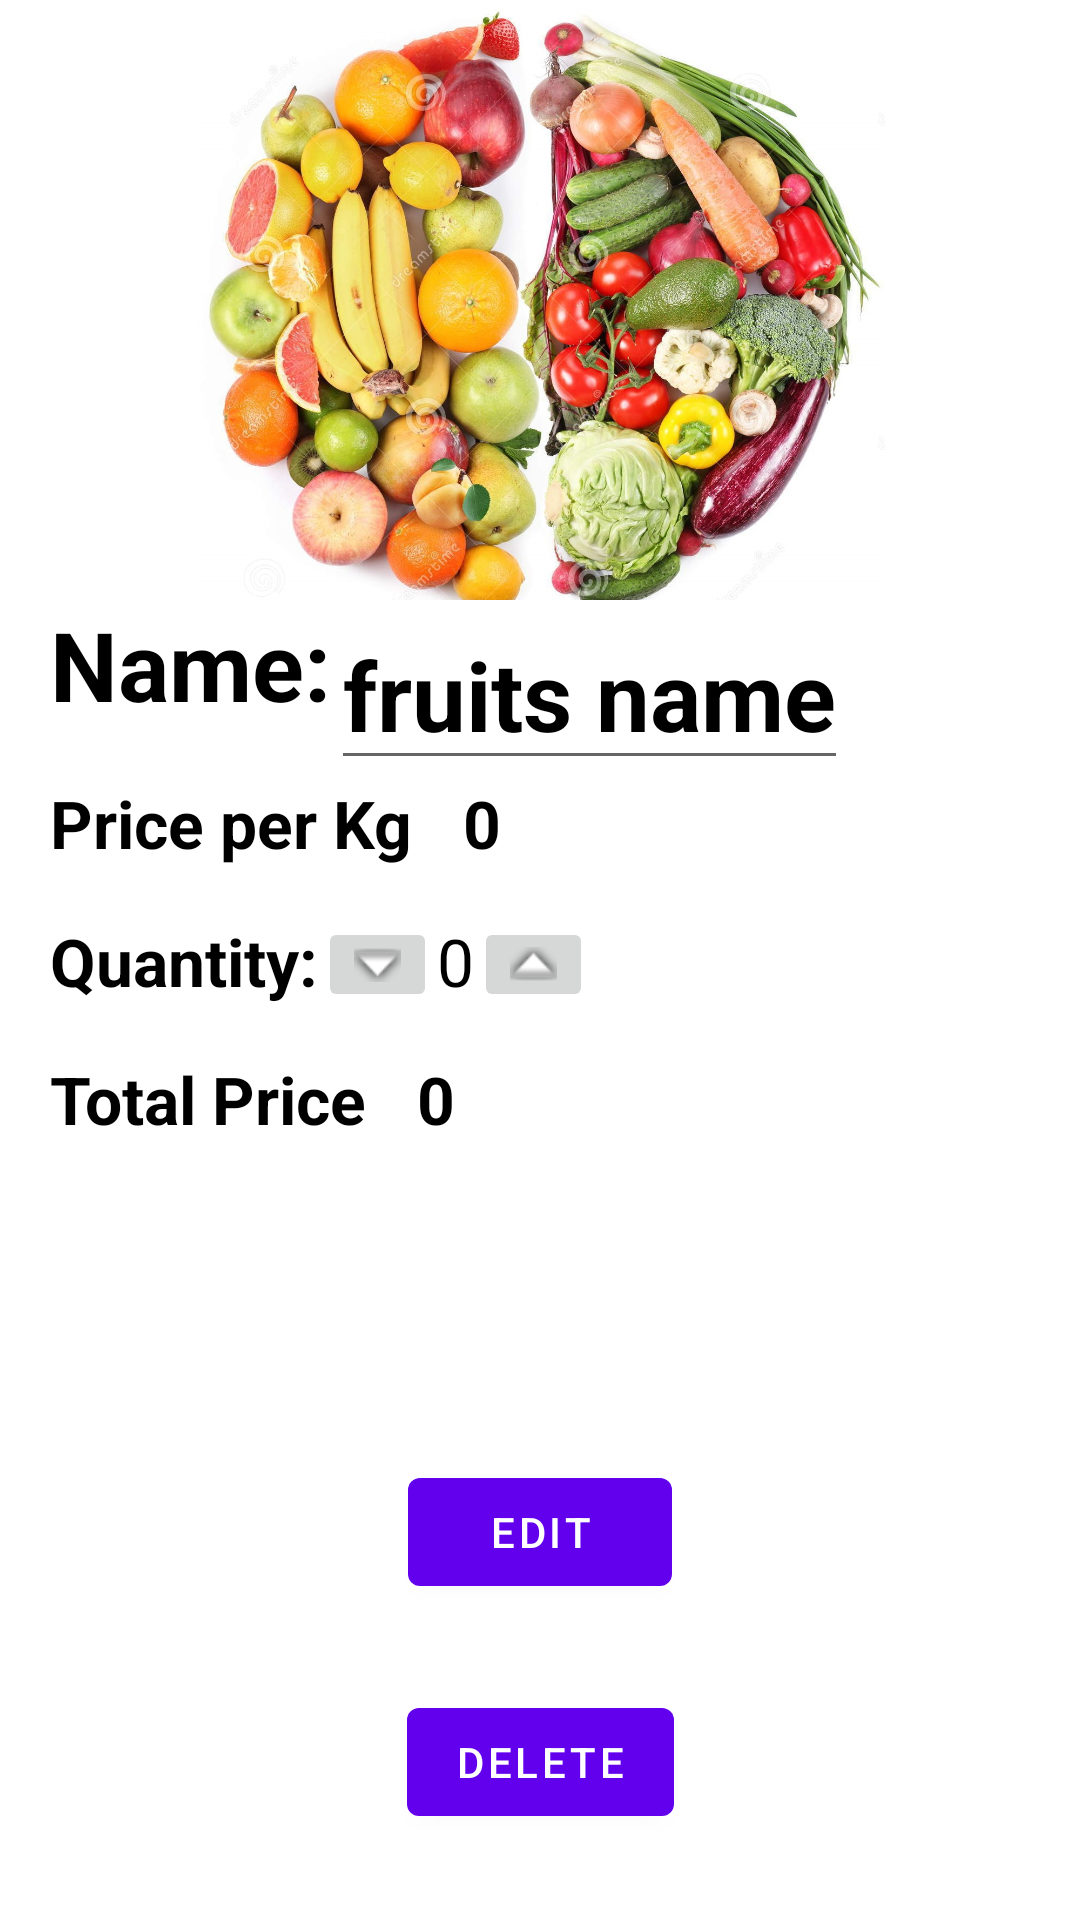

Screen size 1080*1920. Icon name, then its center in pixels as (x,y):
arrow down float: (377,964)
arrow up float: (533,964)
